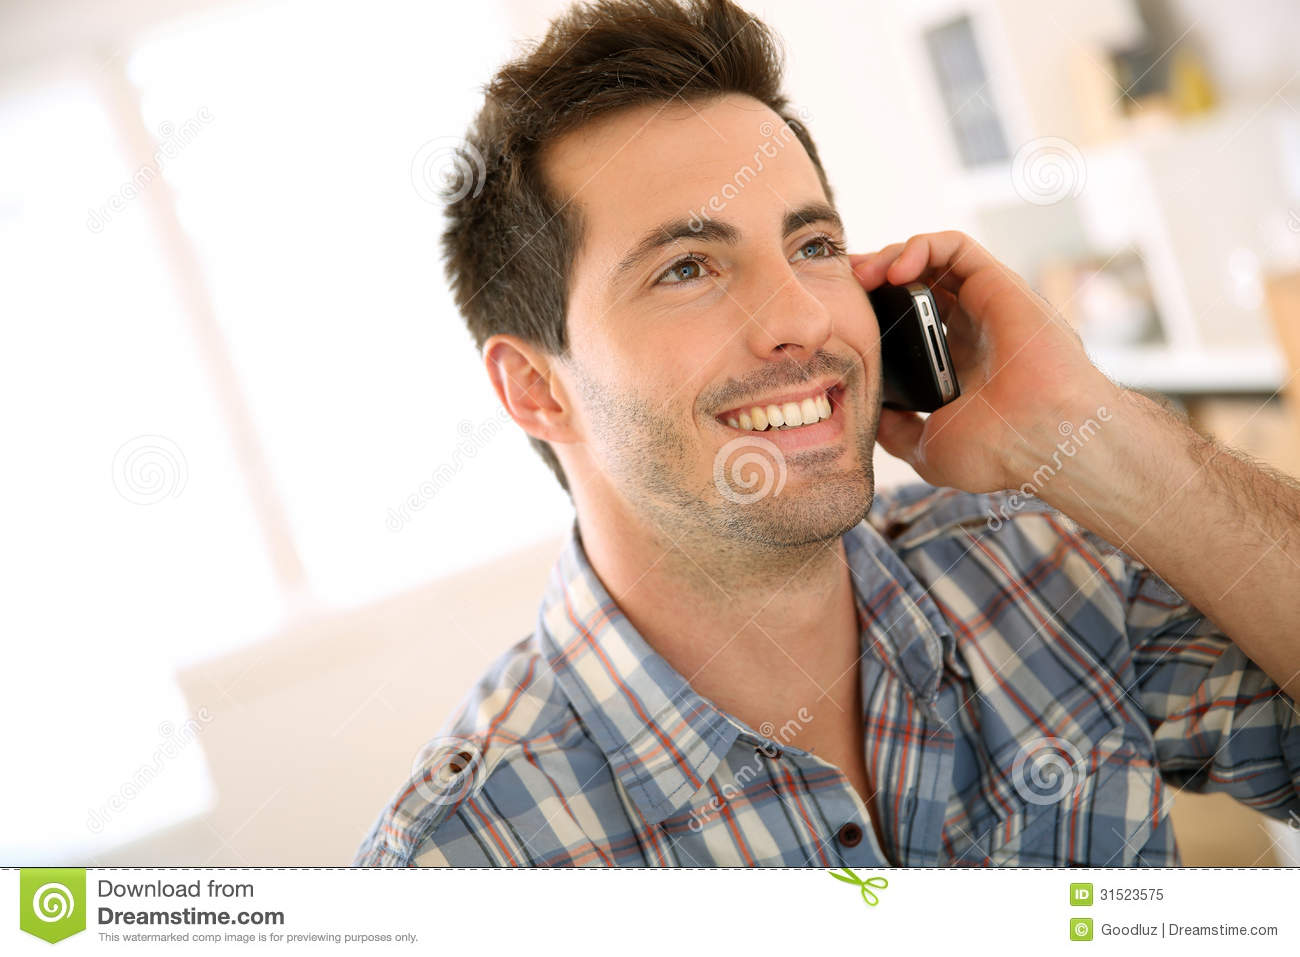phone: (862, 282, 966, 408)
talk: (581, 183, 1097, 553)
